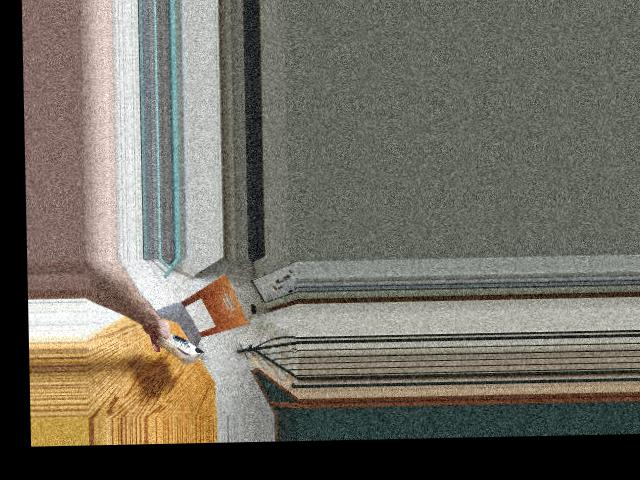cheese: (154, 330, 205, 365)
